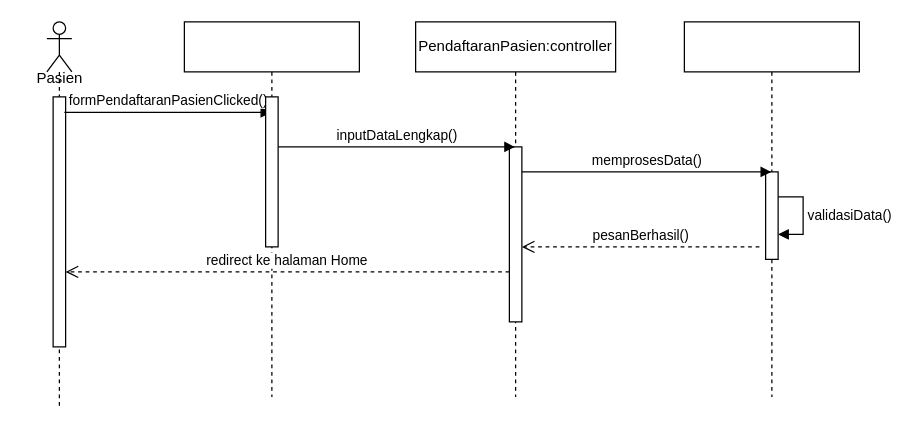
Image size: 913x431. Some labels were removed from this diagram. The shapes that lost their labels are listed below. From the top down, each one's centre as x and y in pixels, then its label:
point 271,209: PendaftaranPasien:view
point 771,209: PendaftaranPasien:model
